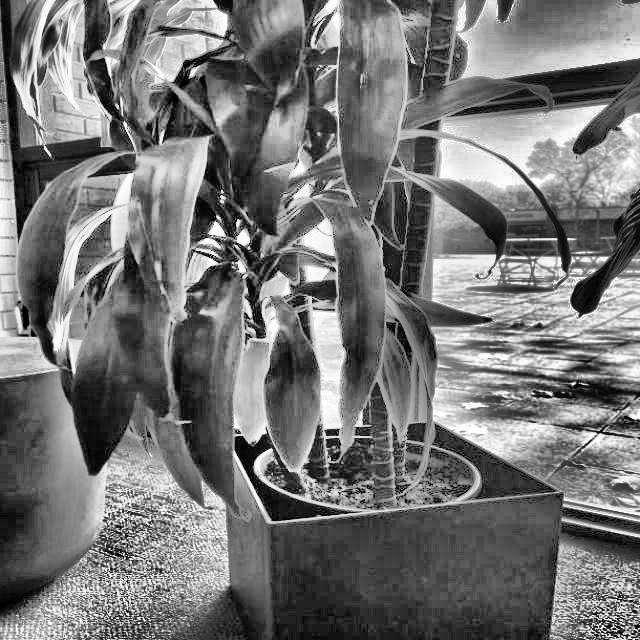plants: (0, 0, 623, 499)
